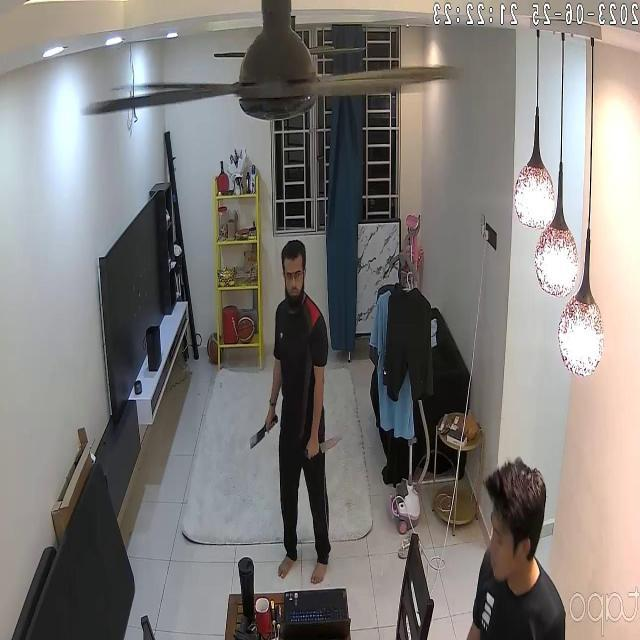Knife: (301, 428, 347, 467), (240, 411, 282, 450)
